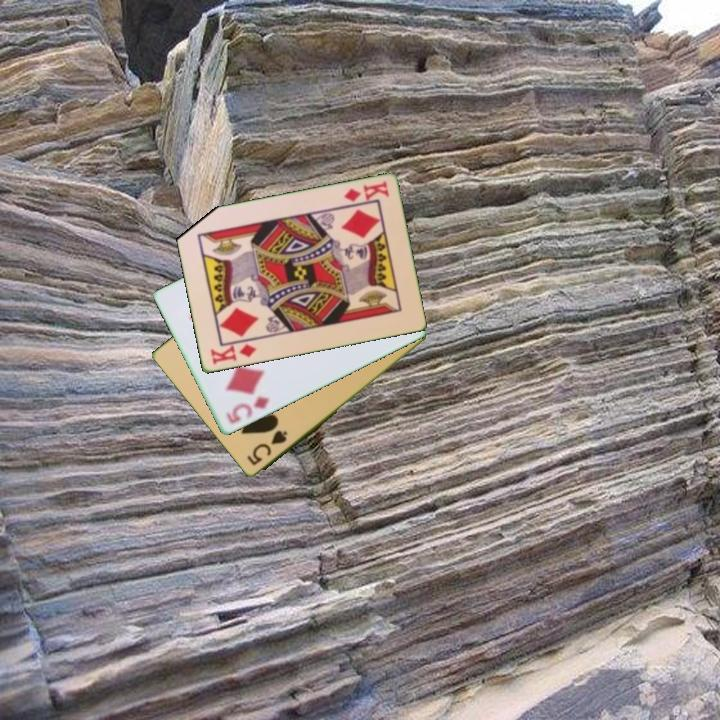5d: (222, 393, 272, 427)
5s: (243, 427, 290, 469)
Kd: (339, 178, 392, 205), (207, 341, 259, 368)
